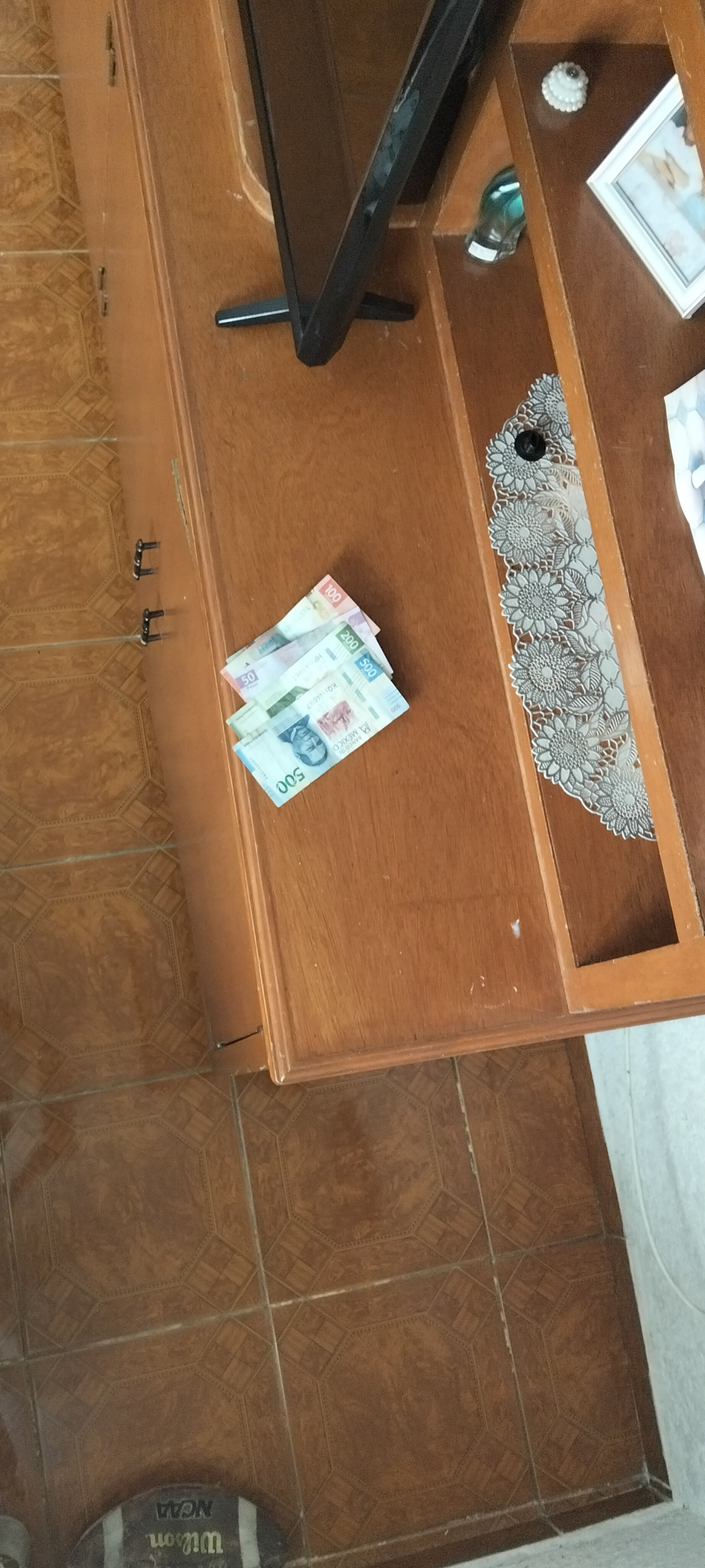billetes: (199, 532, 432, 817)
